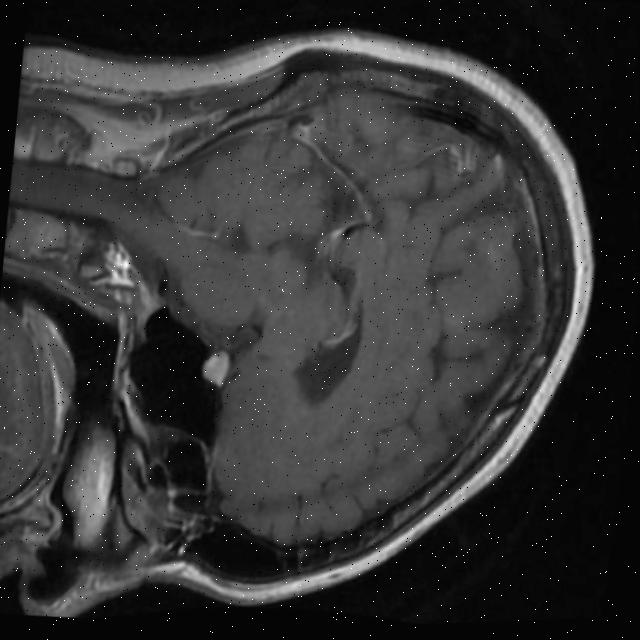Pituitary: (200, 349, 229, 388)
